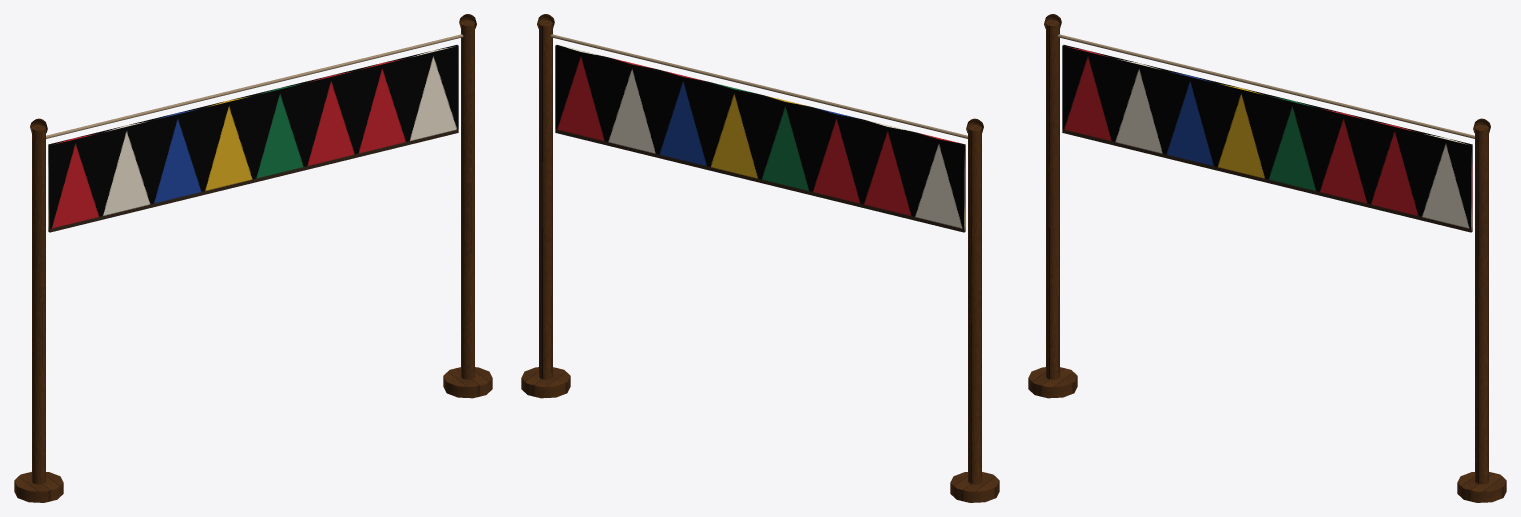
Rendered from prop_bunting.glb.
3 views of the same model, side by side, from view 1: azimuth 30°, elevation 25°; view 2: azimuth 150°, elevation 25°; view 3: azimuth 330°, elevation 25° (orthographic).
Visible parts, largest first — view 1: flags, pole_L, pole_R, rope; view 2: flags, pole_L, pole_R, rope; view 3: flags, pole_R, pole_L, rope.
Boxes of the visible parts, <box> form: flags: <box>48,45,458,232</box>; pole_L: <box>14,118,63,502</box>; pole_R: <box>443,14,492,398</box>; rope: <box>46,34,463,138</box>; flags: <box>555,45,965,232</box>; pole_L: <box>950,118,999,502</box>; pole_R: <box>521,14,570,398</box>; rope: <box>550,34,967,138</box>; flags: <box>1062,45,1472,232</box>; pole_R: <box>1457,118,1506,502</box>; pole_L: <box>1028,14,1077,398</box>; rope: <box>1057,34,1474,138</box>.
Bounding box in the file's own units: 3.52 × 2.66 × 0.3043.
Materials: 4 (2 with a texture image).
